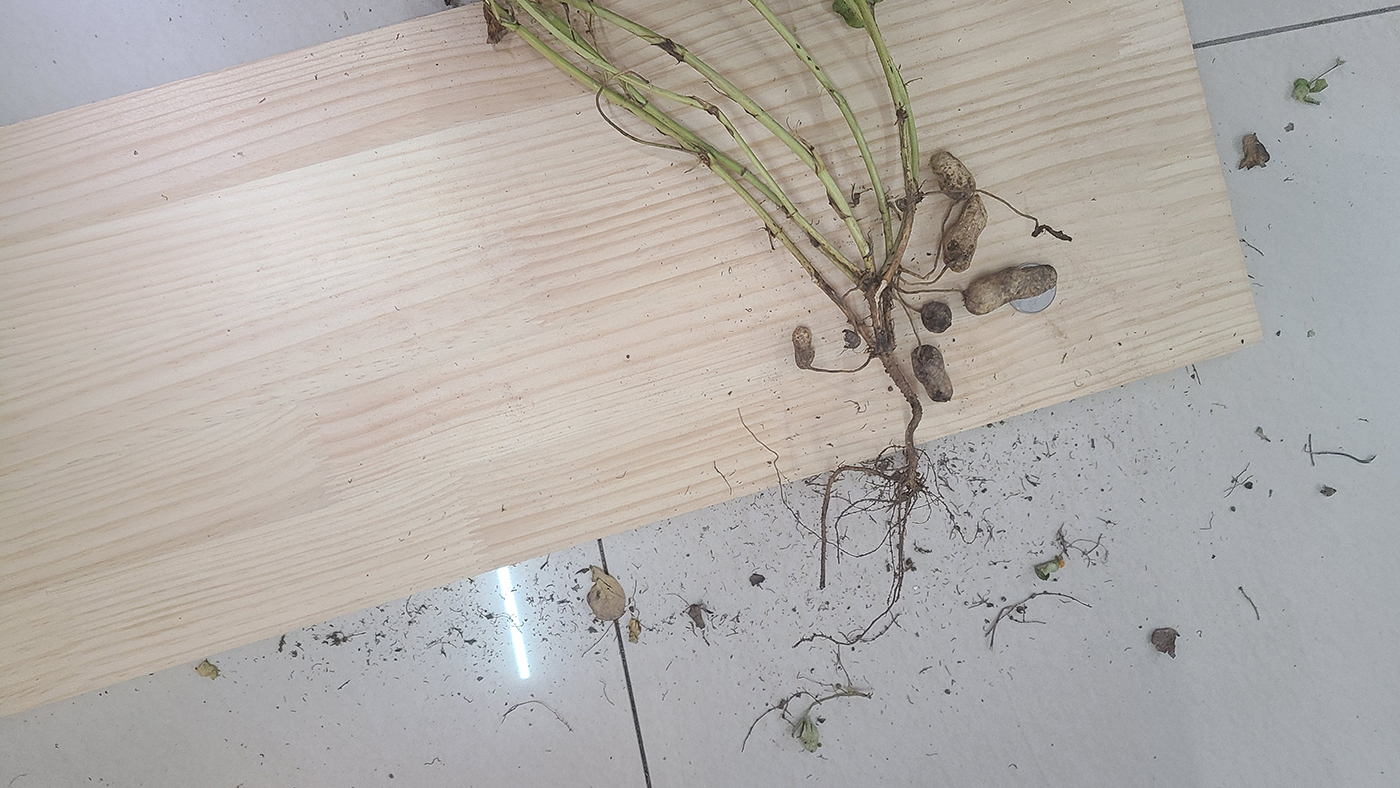h: (931, 151, 976, 198)
l: (964, 264, 1057, 315), (941, 196, 986, 272), (912, 345, 953, 403), (792, 327, 816, 369), (922, 301, 952, 333), (843, 329, 861, 351)
